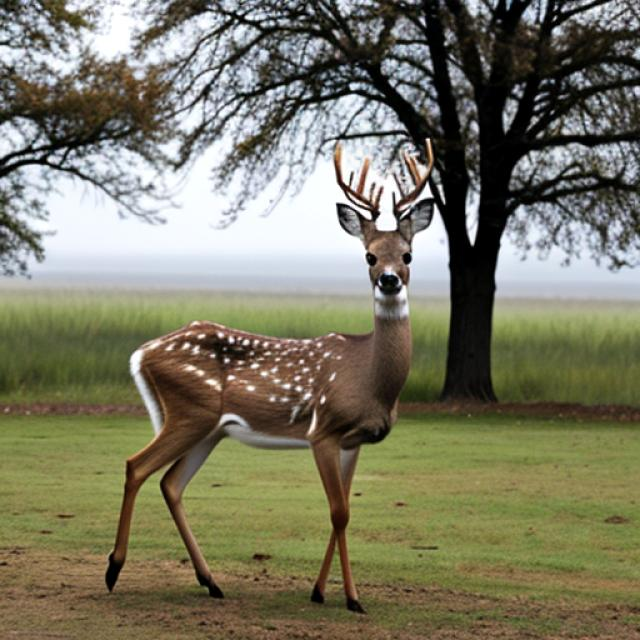deer: (94, 134, 467, 603)
